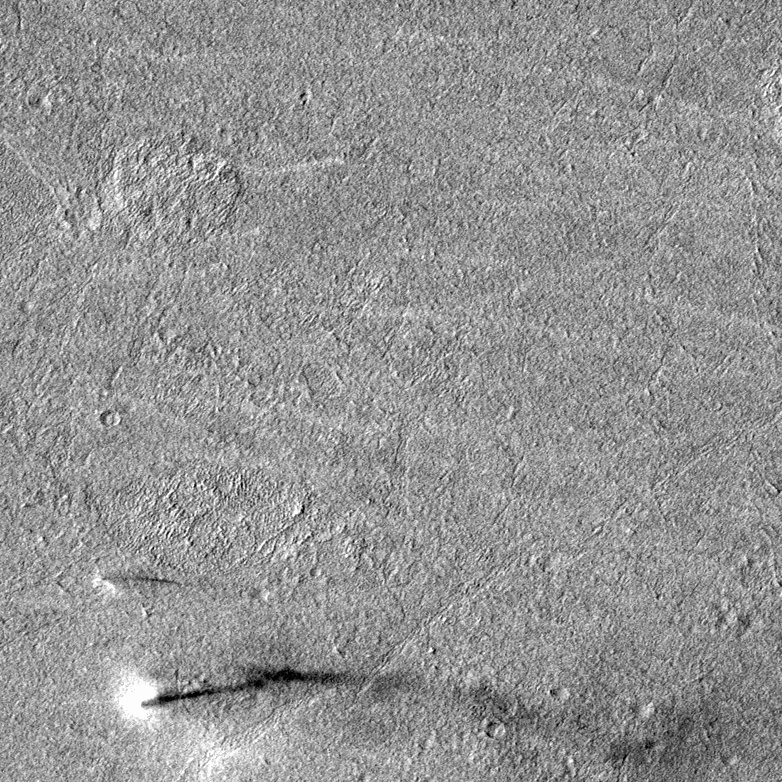dust_devil: (116, 661, 362, 726), (91, 572, 181, 596)
